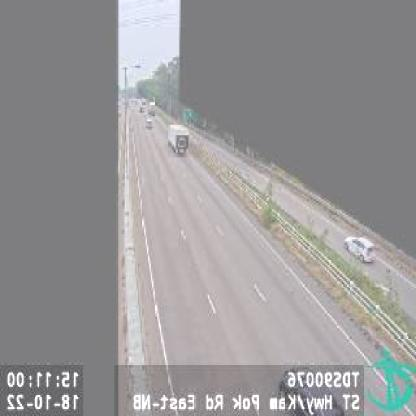Car: (344, 234, 375, 262), (144, 117, 154, 132)
Truck: (167, 123, 188, 154)
